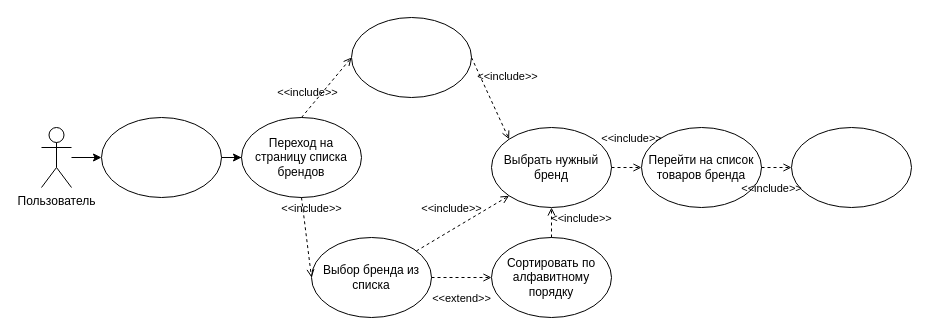
The diagram is 929 pixels wide and 335 high, and some of its shapes have lost their labels. The shapes that lost their labels are listed below. From the top down, each one's centre as x and y in pixels, then its label:
At point 411,57: "Поиск бренда по названию".
At point 161,157: "Переход на страницу поиска".
At point 851,167: "Перейти на страницу товара".
